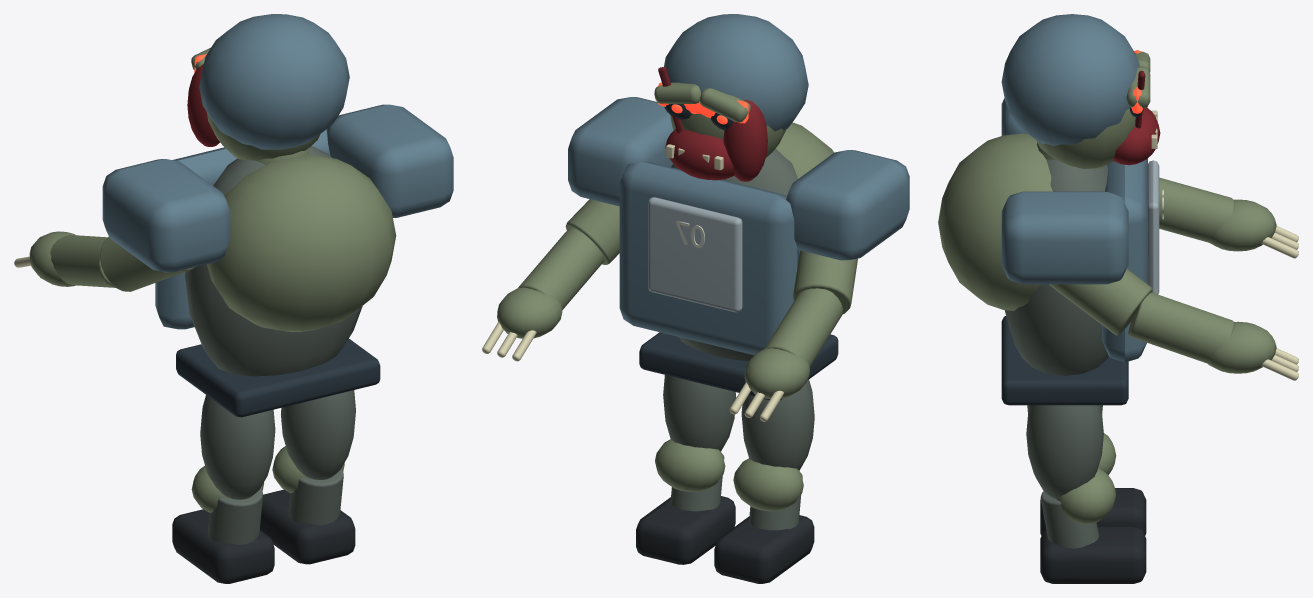
File: 12_zombie_armored.glb
3 renders of one model, left to right at view 1: azimuth 30°, elevation 25°; view 2: azimuth 150°, elevation 25°; view 3: azimuth 270°, elevation 25°, orthographic. The views are drawn at different scales.
Visible parts, largest first — view 1: Breastplate, Infected back, Torso, Thigh, Eye socket, Thigh.001, Upper arm, Boot, Boot.001, Broken jaw, Kneecap.001, Kneecap; view 2: Breastplate, Trauma plate, Upper arm, Upper arm.001, Thigh, Thigh.001, Eye socket, Boot, Infected back, Broken jaw, Boot.001, Kneecap (+5 smaller); view 3: Breastplate, Infected back, Upper arm.001, Torso, Thigh.001, Upper arm, Eye socket, Boot.001, Kneecap.001, Boot, Trauma plate, Broken jaw (+3 smaller).
Boxes of the visible parts, bbox=[...] form: Breastplate: bbox=[102, 14, 453, 329]; Infected back: bbox=[191, 47, 396, 331]; Torso: bbox=[185, 146, 362, 376]; Thigh: bbox=[200, 395, 275, 544]; Eye socket: bbox=[176, 339, 380, 417]; Thigh.001: bbox=[281, 390, 355, 525]; Upper arm: bbox=[29, 231, 194, 291]; Boot: bbox=[172, 509, 274, 583]; Boot.001: bbox=[260, 489, 355, 564]; Broken jaw: bbox=[187, 63, 219, 146]; Kneecap.001: bbox=[272, 446, 344, 492]; Kneecap: bbox=[191, 466, 264, 512]; Breastplate: bbox=[568, 14, 909, 354]; Trauma plate: bbox=[648, 197, 742, 312]; Upper arm: bbox=[744, 250, 857, 398]; Upper arm.001: bbox=[497, 199, 619, 338]; Thigh: bbox=[741, 380, 814, 530]; Thigh.001: bbox=[663, 375, 736, 511]; Eye socket: bbox=[639, 104, 838, 400]; Boot: bbox=[714, 515, 814, 583]; Infected back: bbox=[654, 82, 833, 178]; Broken jaw: bbox=[665, 100, 767, 181]; Boot.001: bbox=[636, 496, 735, 564]; Kneecap: bbox=[733, 458, 803, 511]; Breastplate: bbox=[1001, 14, 1147, 362]; Infected back: bbox=[938, 51, 1150, 310]; Upper arm.001: bbox=[1049, 268, 1276, 373]; Torso: bbox=[1004, 159, 1108, 375]; Thigh.001: bbox=[1026, 405, 1103, 548]; Upper arm: bbox=[1159, 177, 1276, 251]; Eye socket: bbox=[1001, 107, 1143, 405]; Boot.001: bbox=[1040, 527, 1146, 583]; Kneecap.001: bbox=[1055, 468, 1116, 524]; Boot: bbox=[1040, 488, 1146, 535]; Trauma plate: bbox=[1148, 160, 1159, 294]; Broken jaw: bbox=[1113, 107, 1160, 165].
Size of the model in its own units: 1 by 1.67 by 1.02.
